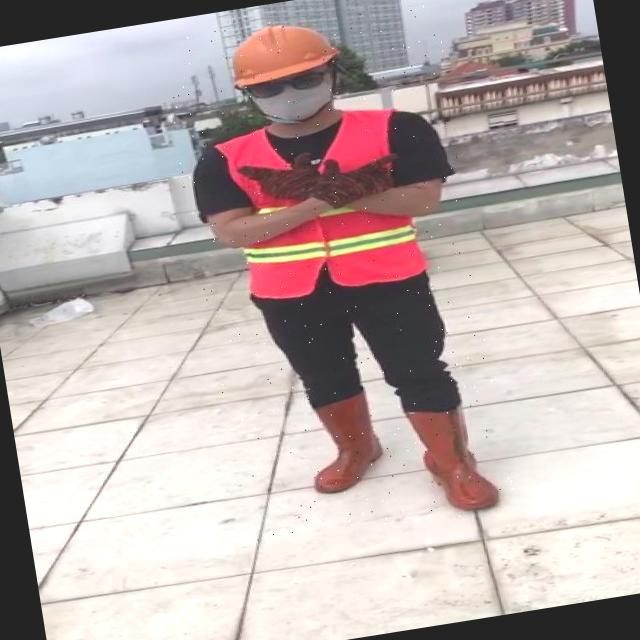boots: (406, 400, 501, 518), (302, 391, 391, 496)
gloves: (248, 131, 420, 240)
helmet: (213, 10, 351, 91)
vest: (211, 105, 430, 308)
